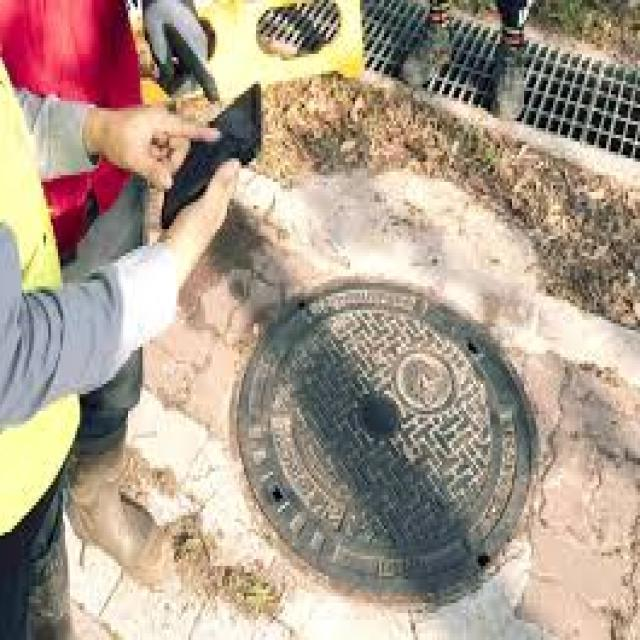Sewer Cover: (206, 255, 564, 620)
